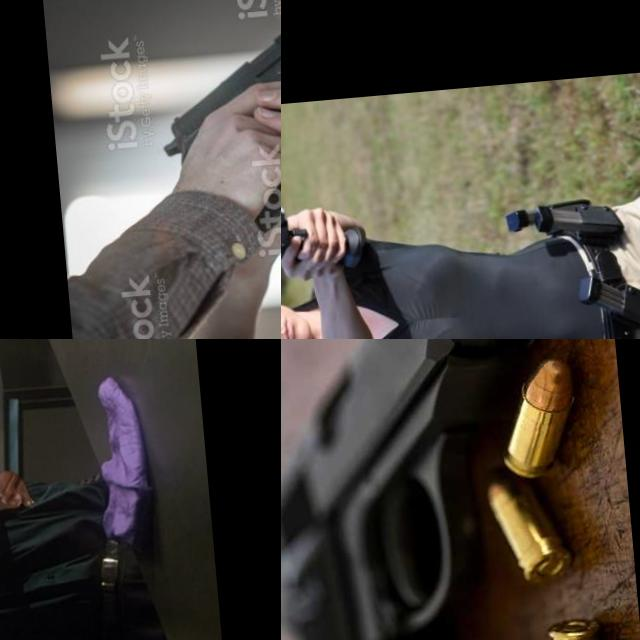handgun: (281, 339, 581, 640), (144, 0, 281, 168), (281, 182, 322, 270)
